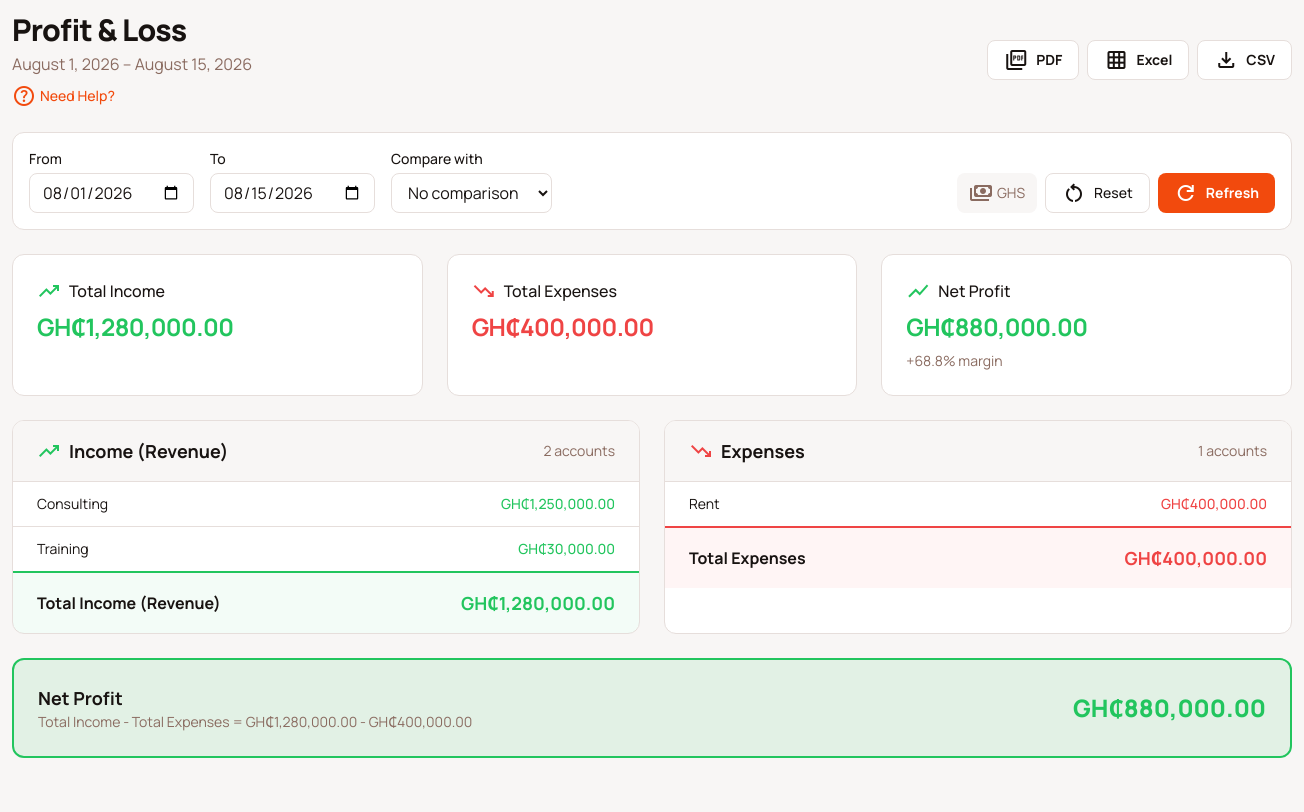
Scenario: Profit & Loss in the shell › shows the export failure instead of failing silently
Expected: the text with test id "profit-loss-total-income" is shown, [37,310,233,343]
Step 1. Click the button with test id "profit-loss-export-pdf" → (1033, 60), box [987,40,1079,80]
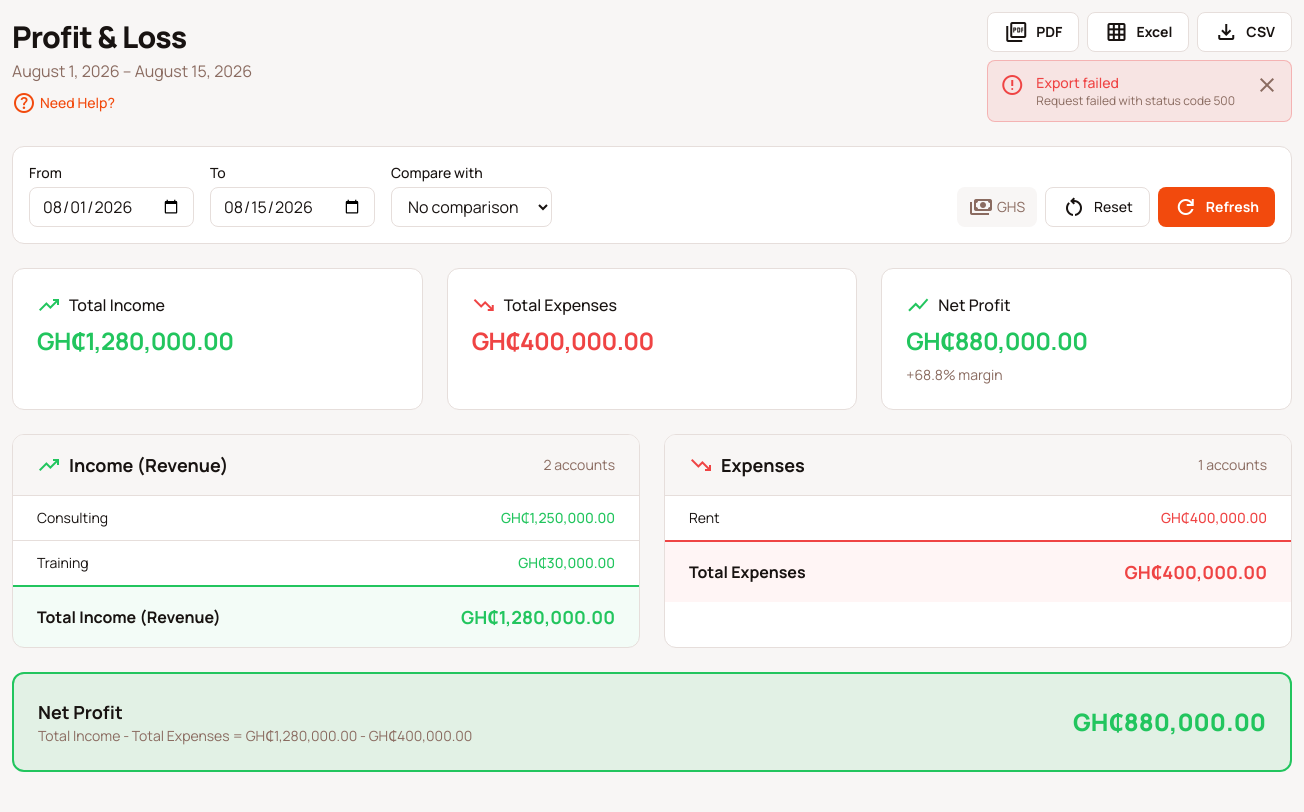
Expected: the button with test id "profit-loss-export-pdf" is enabled, [987,12,1079,52]
Result: the message with test id "profit-loss-export-error" shows "Request failed with status code 500" at [1036,92,1235,109]
